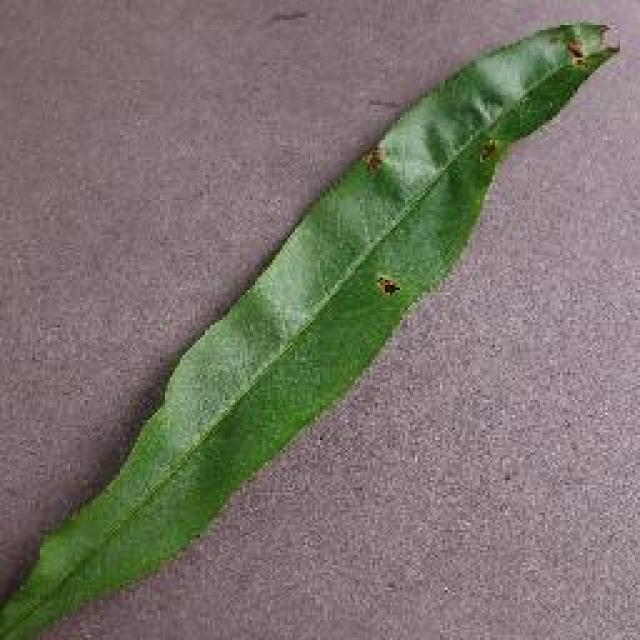Peach_Bacterial_Spot: (333, 167, 442, 328)
